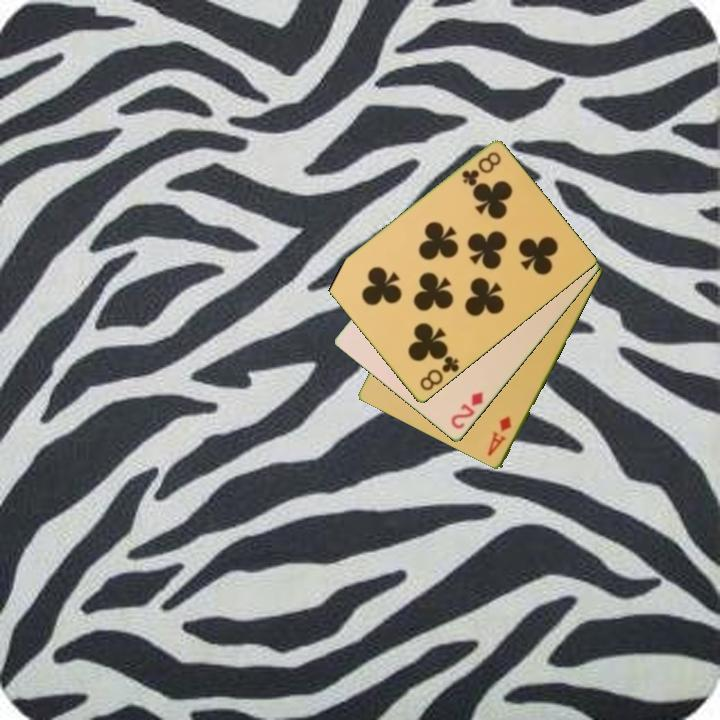2d: (447, 388, 486, 432)
8c: (416, 350, 462, 394), (458, 148, 504, 190)
Ad: (484, 413, 515, 459)
